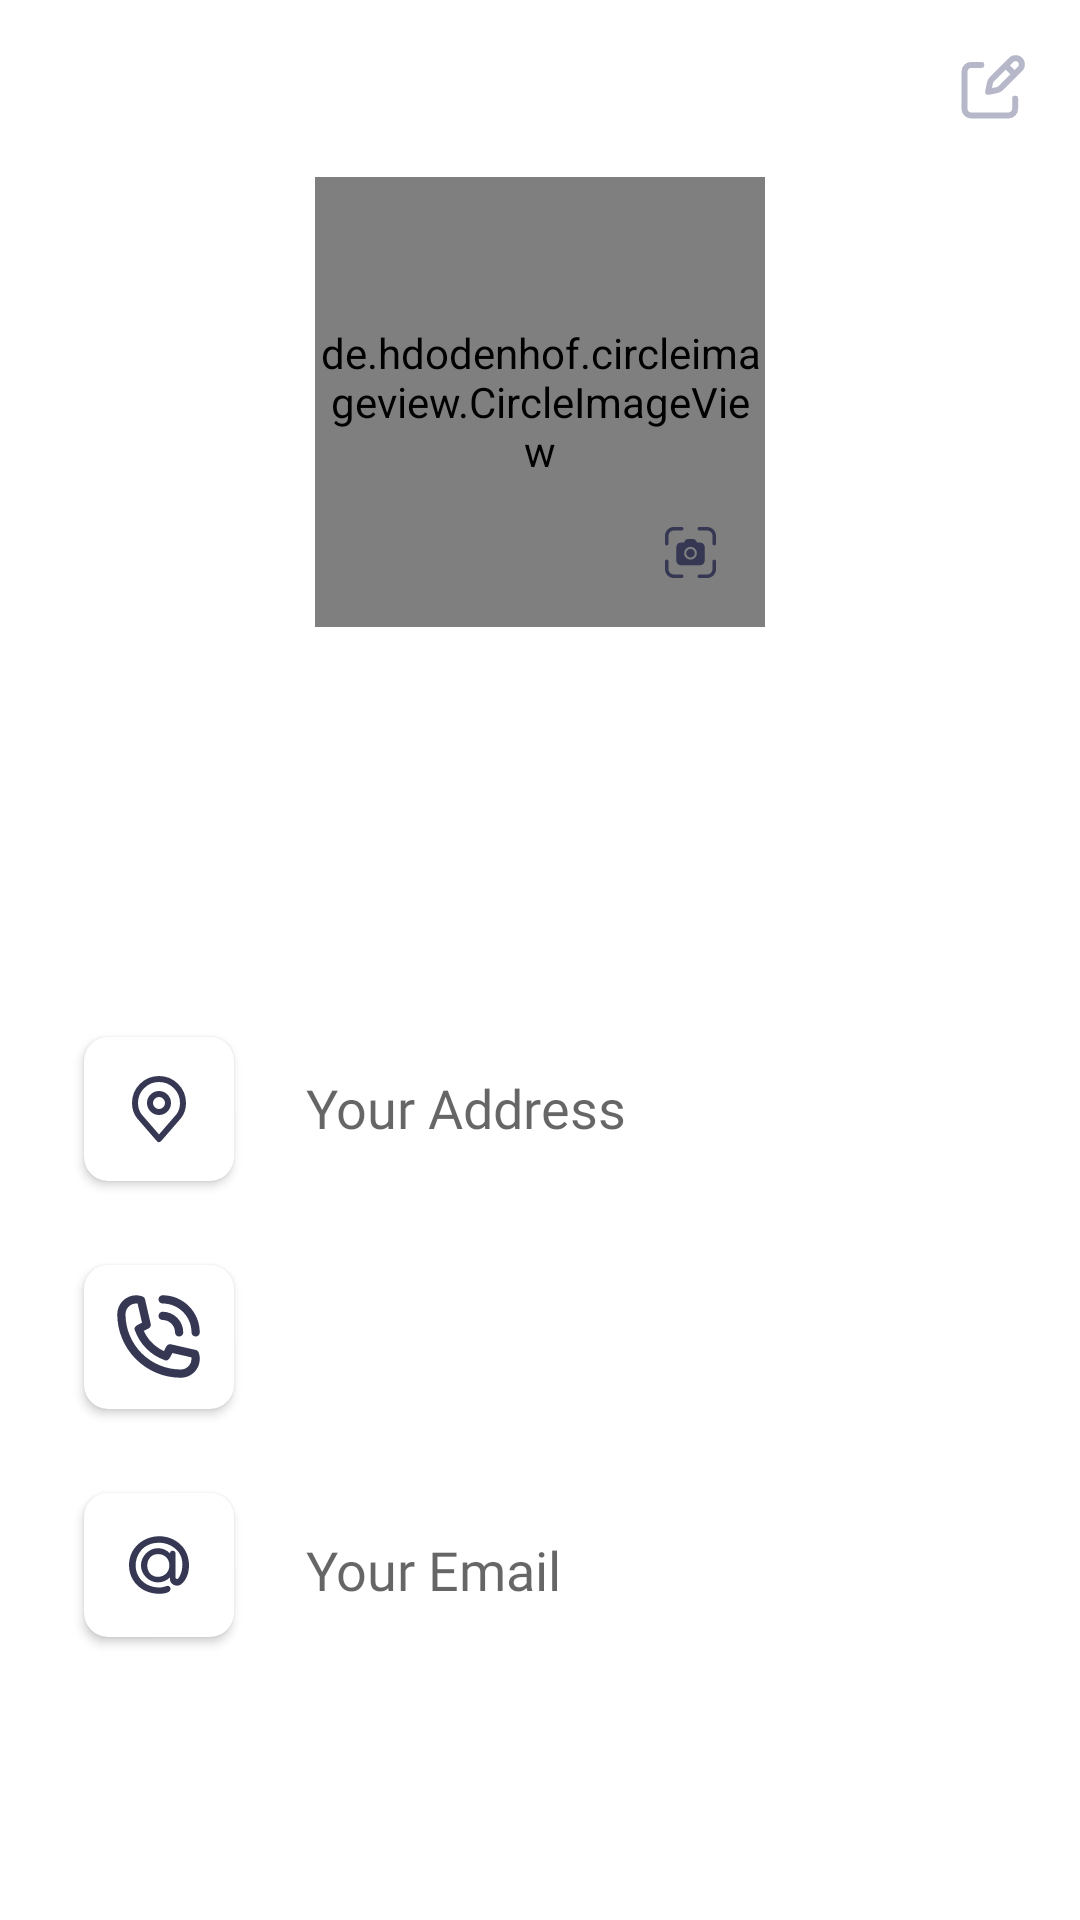

Named icons in this screenshot (1080×1920) and their centers, (x=x, y=y):
akar location: (x=159, y=1109)
eva phone call: (x=158, y=1336)
